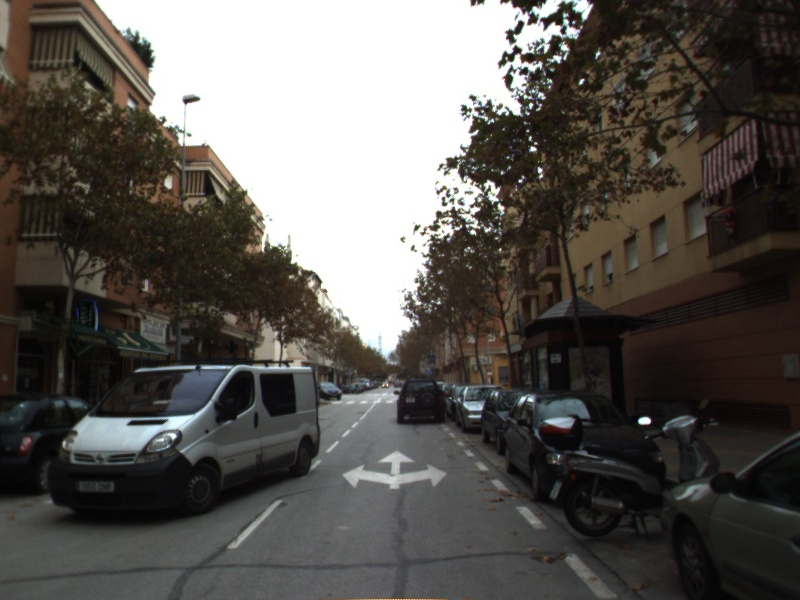STRAIGHT_LEFT_RIGHT: (340, 449, 450, 492)
